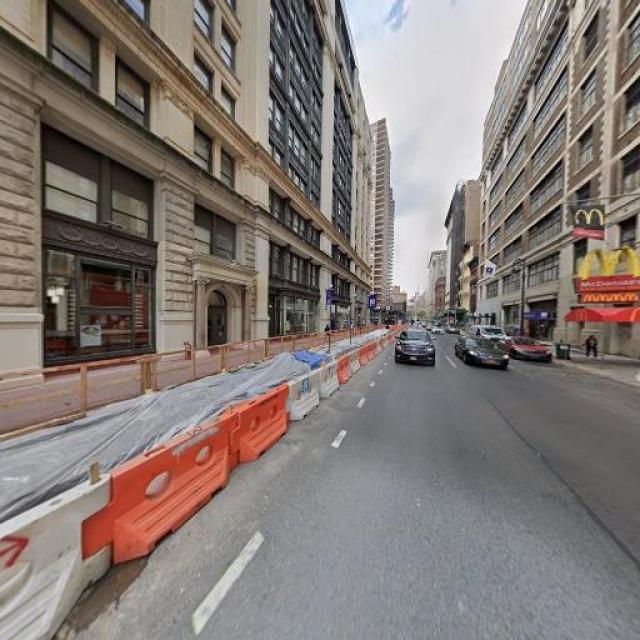Building: (1, 1, 368, 388), (483, 1, 640, 355)
